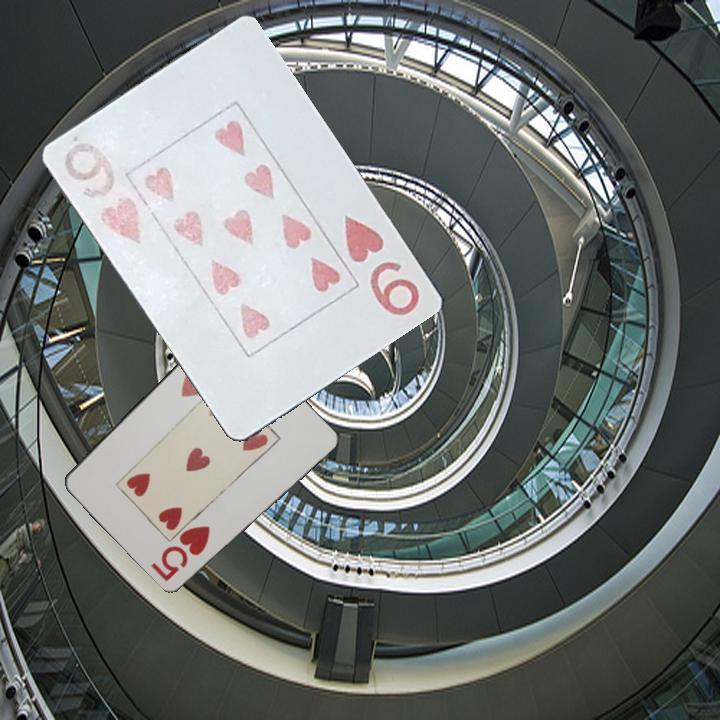5h: (151, 520, 213, 584)
9h: (61, 133, 148, 248), (341, 207, 424, 320)
